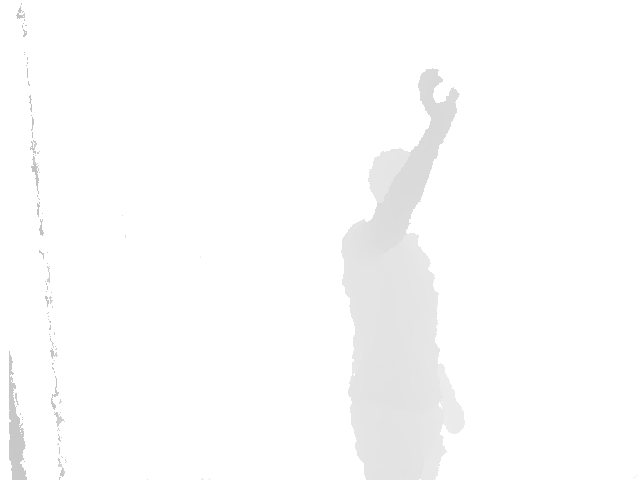hand: (417, 68, 460, 125)
hand_down: (442, 404, 466, 434)
head: (369, 148, 423, 222)
person: (340, 67, 467, 480)
